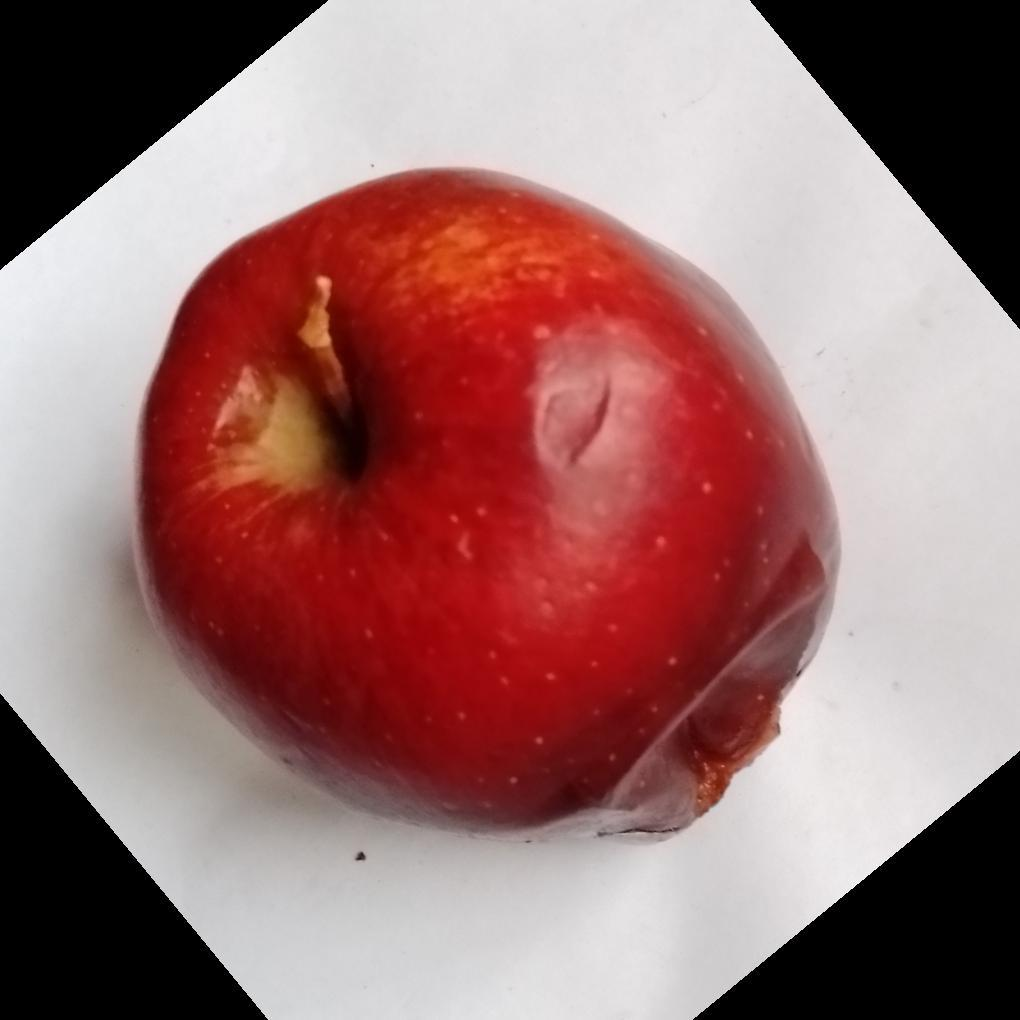FreshOrange: (131, 168, 844, 842)
